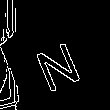N_NW: (29, 28, 84, 90)
